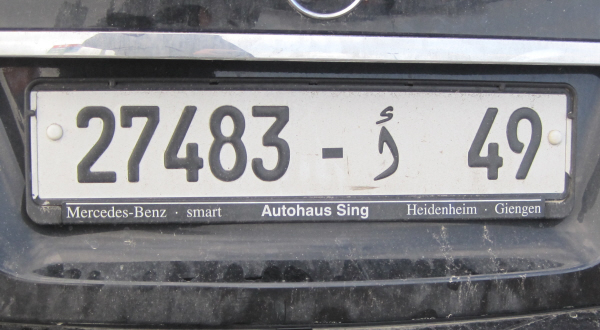number_plate: (28, 82, 574, 198)
